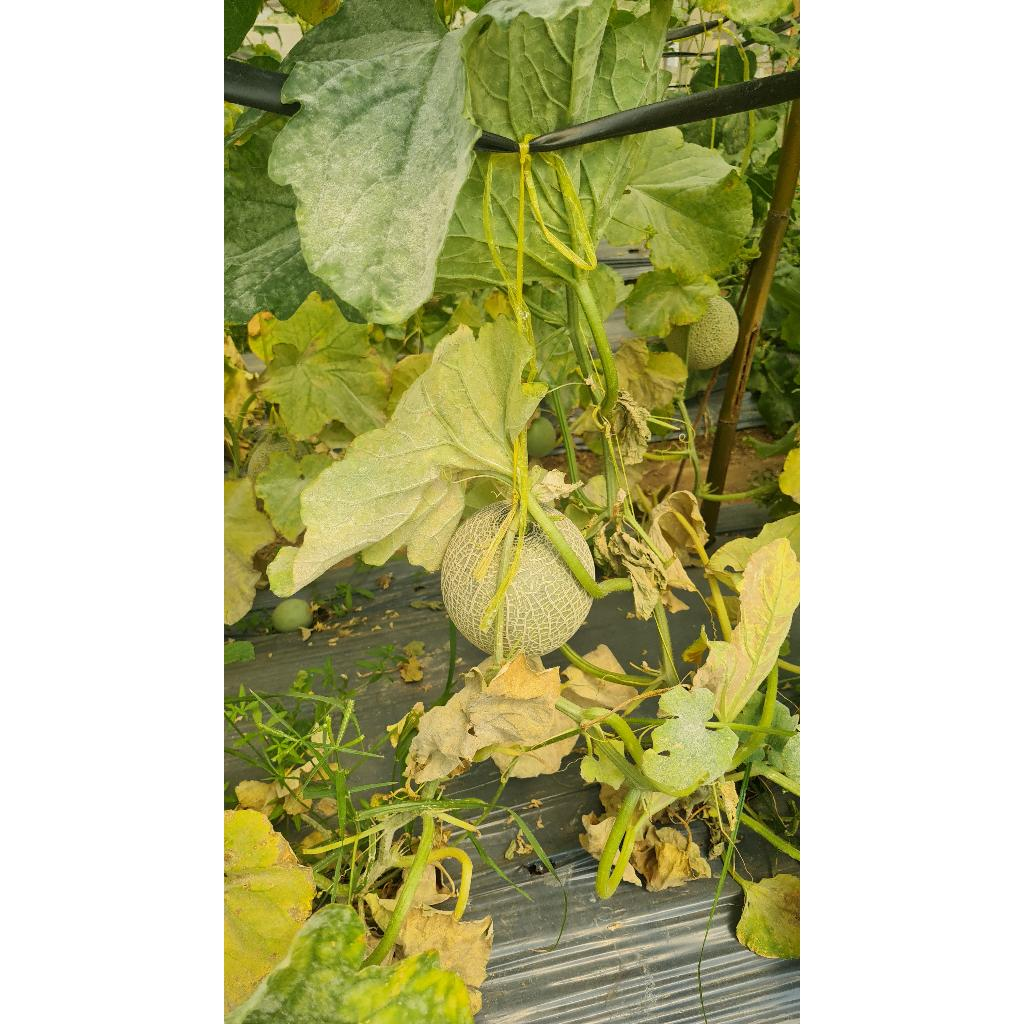melon: (504, 522, 592, 656), (442, 500, 510, 654), (554, 516, 596, 578)
